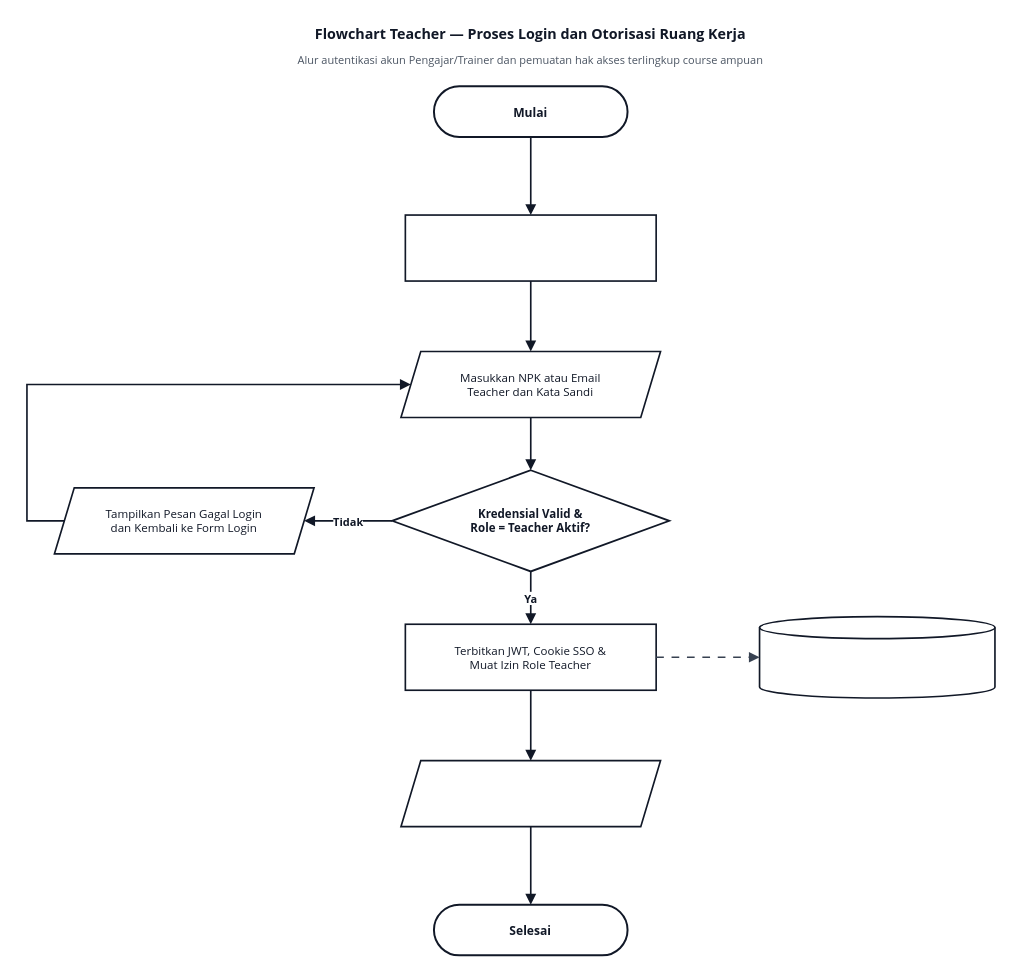
Some shapes in this 1015 by 975 pixel diagram are drawn without their labels. The shapes that lost their labels are listed below. From the top down, each one's centre as x and y in pixels, then its label:
(x=530, y=247): Buka Halaman Login Portal Pengelola dan Pengajar
(x=876, y=656): SQL Server: employee_accounts & lms_role_permissions
(x=530, y=793): Arahkan ke Dashboard Teacher Terlingkup Course Ampuan
